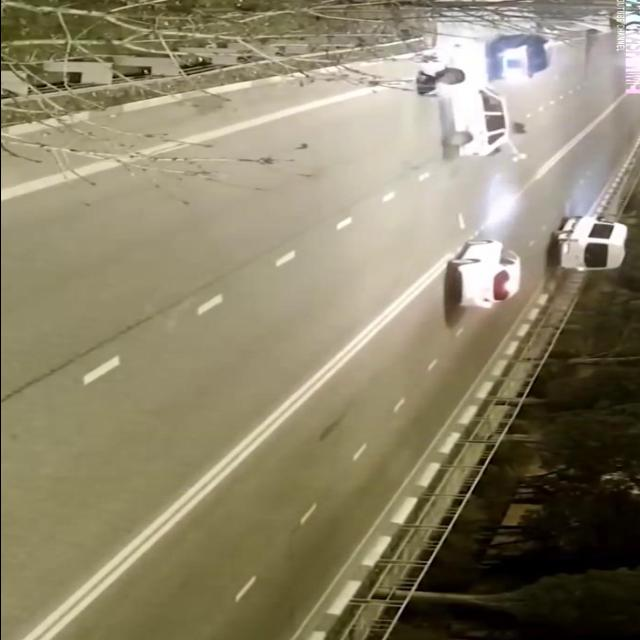accident: (419, 52, 525, 172)
